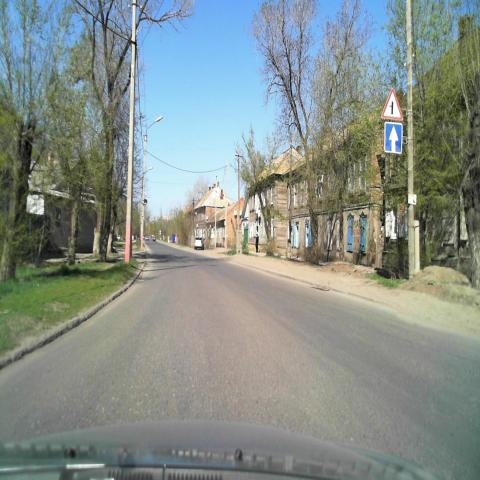5_5: (384, 122, 402, 155)
